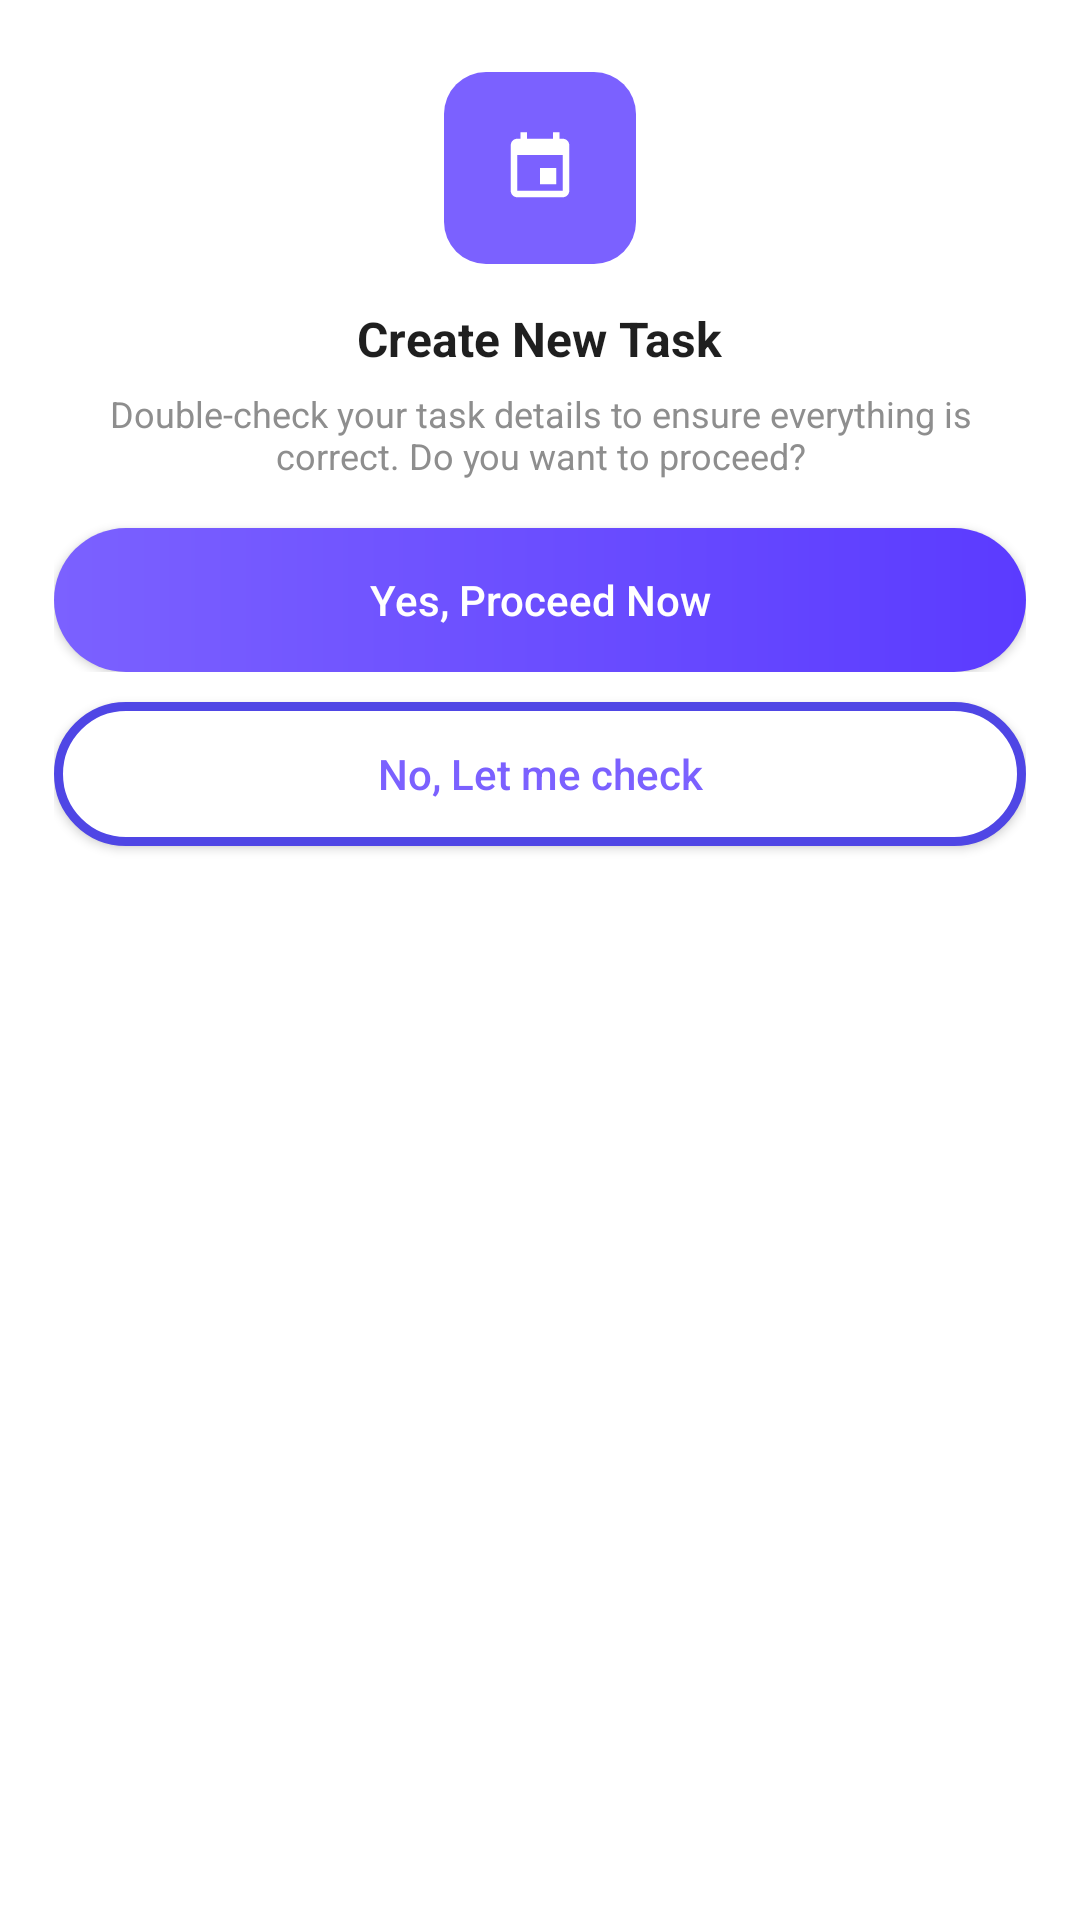

Screen size 1080 × 1920. Icon name, then its box in pixels as (x1, y1, x2, y2):
calendar: (510, 132, 570, 198)
